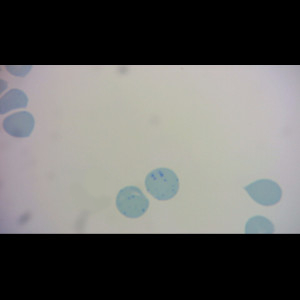aggregate reticulocyte: (143, 167, 180, 202)
erythrocyte: (241, 177, 284, 207), (1, 109, 36, 139)
punctate reticulocyte: (115, 185, 150, 219)
